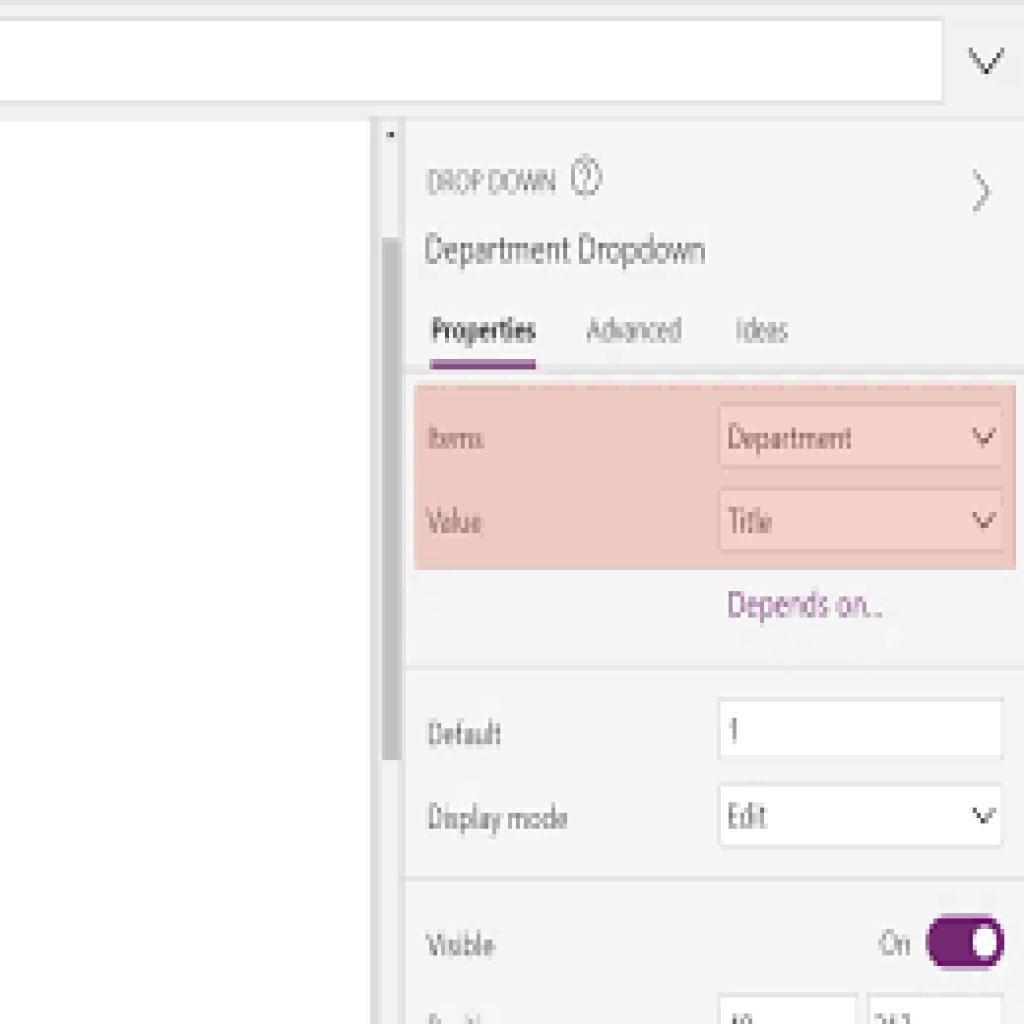dropdown: (0, 0, 1024, 113), (716, 781, 1004, 848), (719, 486, 1004, 552), (718, 402, 1001, 467)
input: (721, 697, 1001, 756)
label: (426, 232, 709, 276), (423, 797, 575, 841), (429, 311, 544, 348), (581, 311, 686, 349), (424, 714, 508, 750), (421, 930, 500, 963), (731, 310, 793, 351), (423, 423, 495, 455), (421, 503, 487, 536)
switch: (925, 914, 1005, 971)
